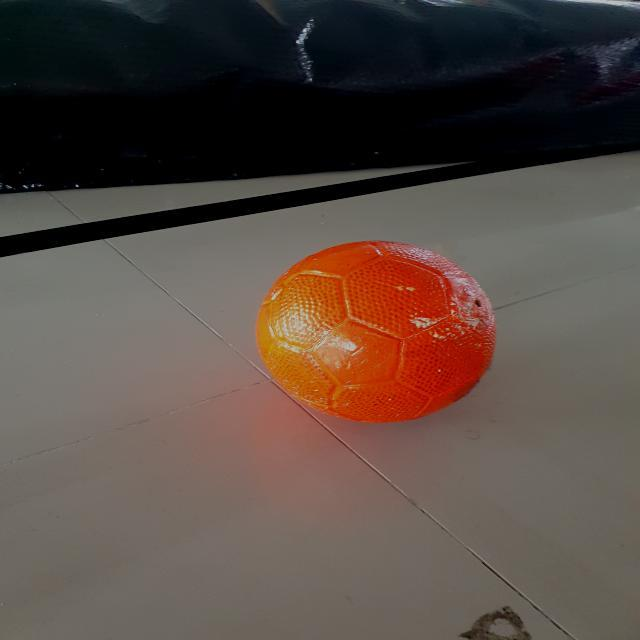bola: (256, 236, 501, 427)
